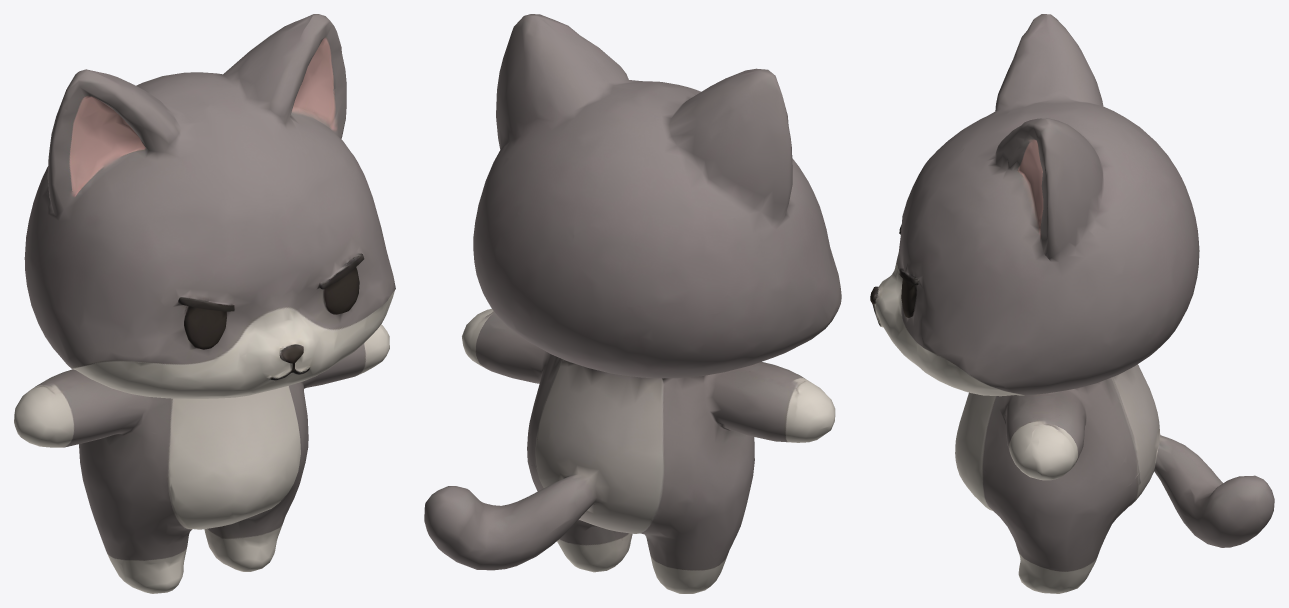
Rendered from cat.glb.
3 renders of one model, left to right at view 1: azimuth 30°, elevation 25°; view 2: azimuth 150°, elevation 25°; view 3: azimuth 270°, elevation 25°, orthographic. The views are drawn at different scales.
Parts seen in each view (by area): view 1: tripo_node_361db499-48c1-4c91-ae49-6f6b9dd8f666; view 2: tripo_node_361db499-48c1-4c91-ae49-6f6b9dd8f666; view 3: tripo_node_361db499-48c1-4c91-ae49-6f6b9dd8f666.
Part boxes in pixels (box(x1,y1,x2,y2)): tripo_node_361db499-48c1-4c91-ae49-6f6b9dd8f666: box(14, 14, 395, 593); tripo_node_361db499-48c1-4c91-ae49-6f6b9dd8f666: box(424, 14, 841, 593); tripo_node_361db499-48c1-4c91-ae49-6f6b9dd8f666: box(870, 14, 1274, 593).
Size of the model in its own units: 0.719 by 1 by 0.7308.
1 material, 1 textured.
